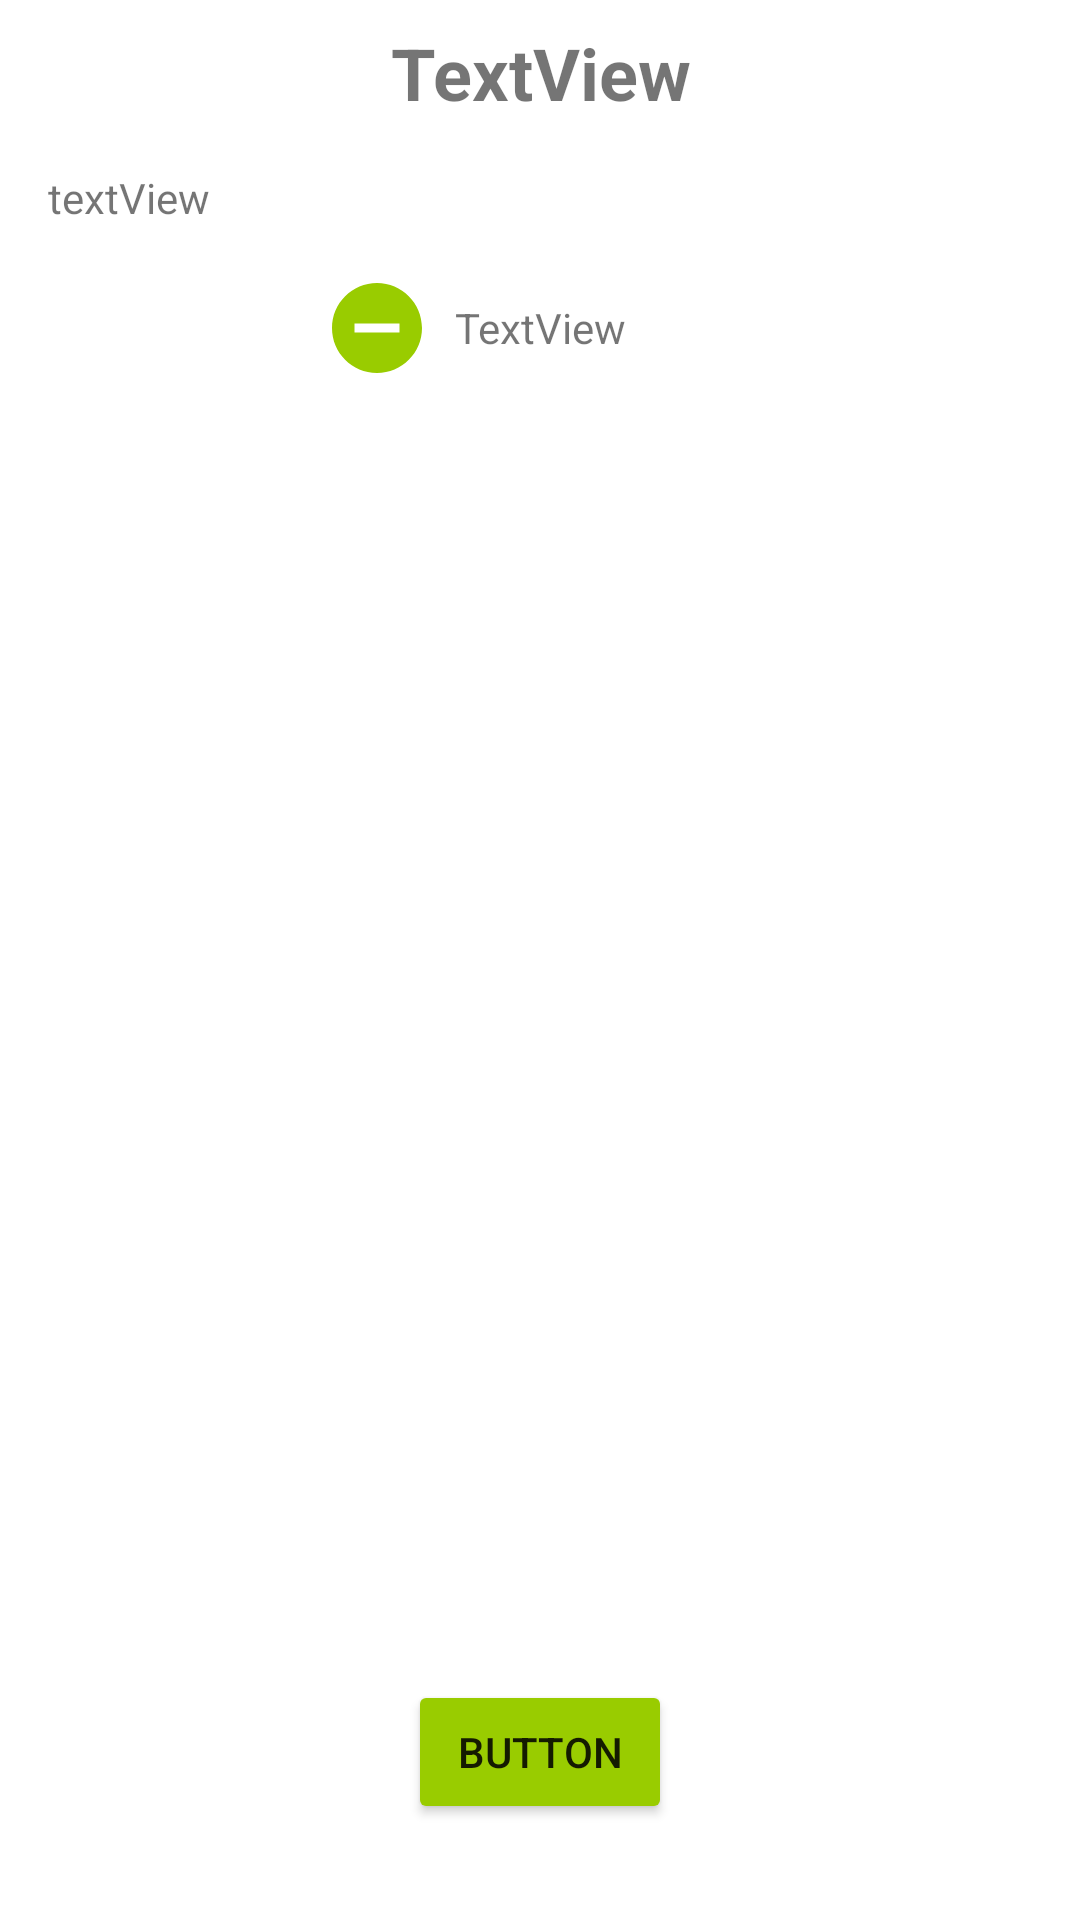

Where to tap for icons on this 1080×1920 app screen, as [x,y]:
less: [377,328]
